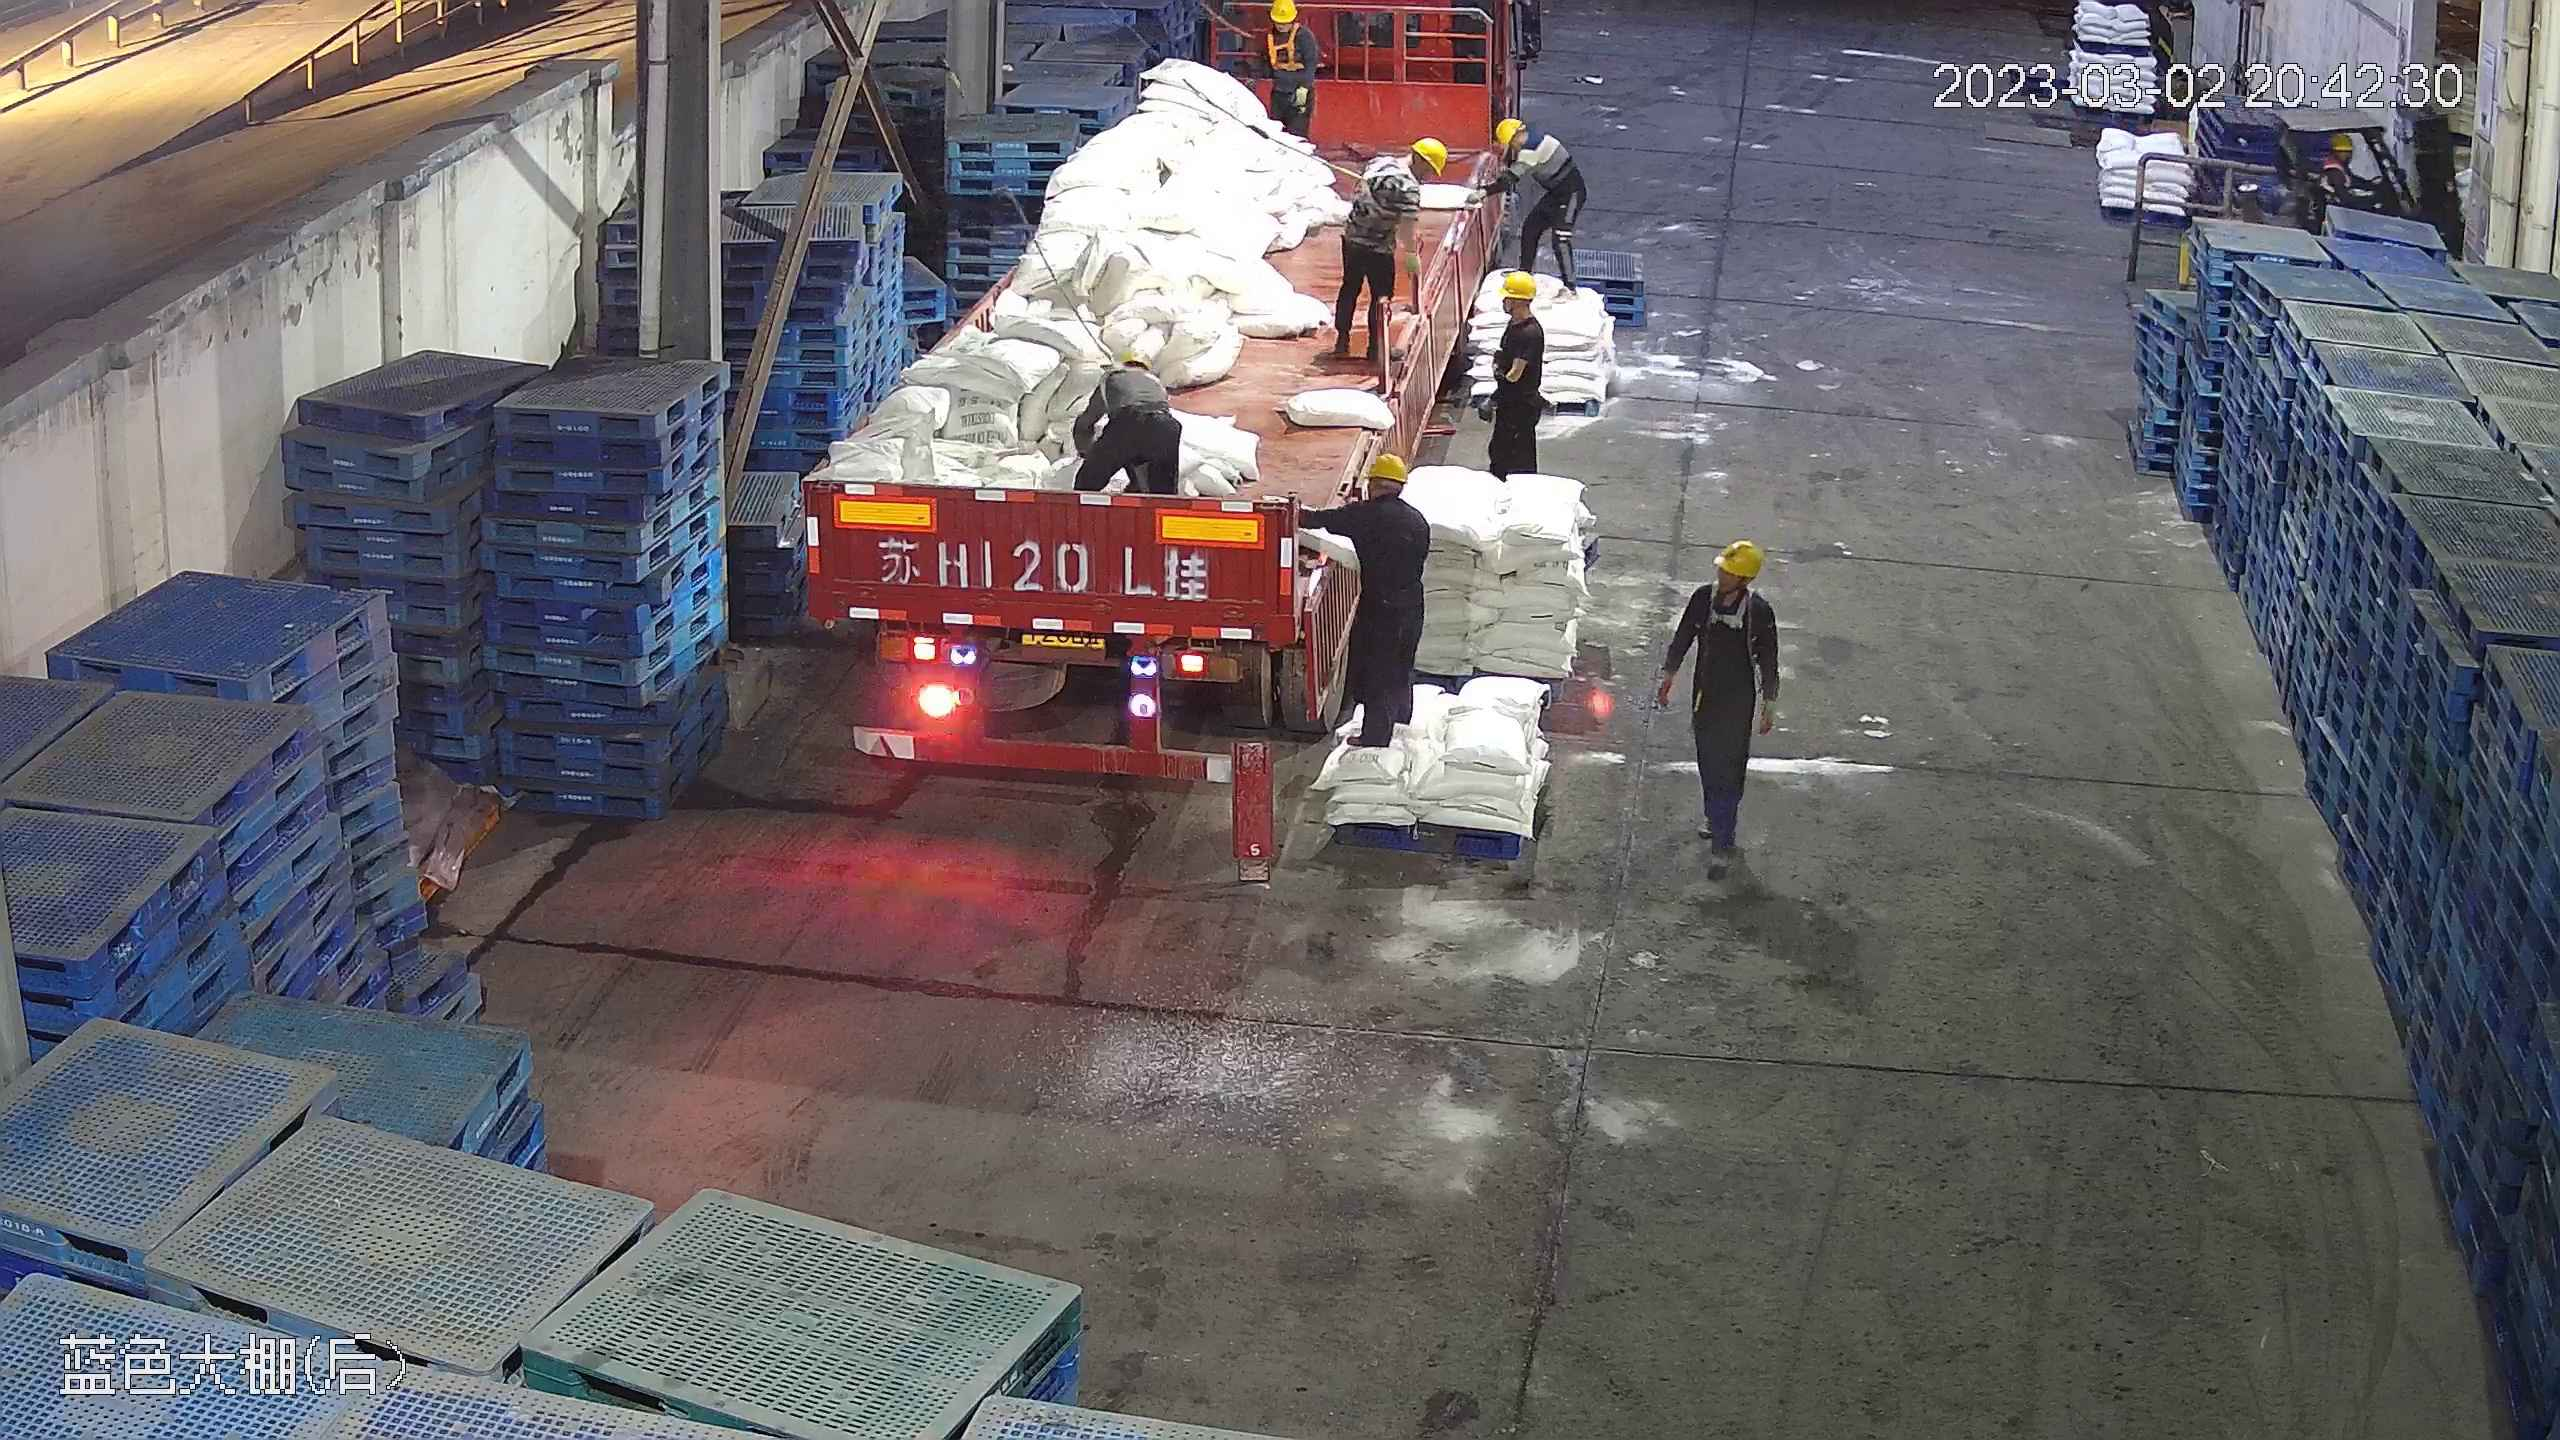belt: (1098, 360, 1170, 414), (1351, 156, 1409, 222), (1701, 578, 1756, 629), (1263, 21, 1310, 74)
head: (1681, 538, 1777, 635), (1337, 447, 1426, 545), (1361, 137, 1448, 214), (1493, 117, 1569, 180), (1492, 272, 1548, 349), (2309, 130, 2368, 185), (1096, 347, 1165, 388), (1257, 1, 1315, 50)
helmet: (1715, 539, 1765, 578), (1360, 448, 1411, 484), (1411, 137, 1450, 176), (1493, 271, 1538, 301), (1496, 118, 1527, 152), (2326, 129, 2357, 156), (1270, 1, 1299, 21)
people: (1658, 536, 1779, 866), (1311, 442, 1433, 748), (1325, 137, 1453, 379), (1062, 341, 1187, 506), (1489, 113, 1584, 291), (1480, 270, 1548, 482), (1253, 1, 1325, 147)
truck: (793, 20, 1555, 822)
